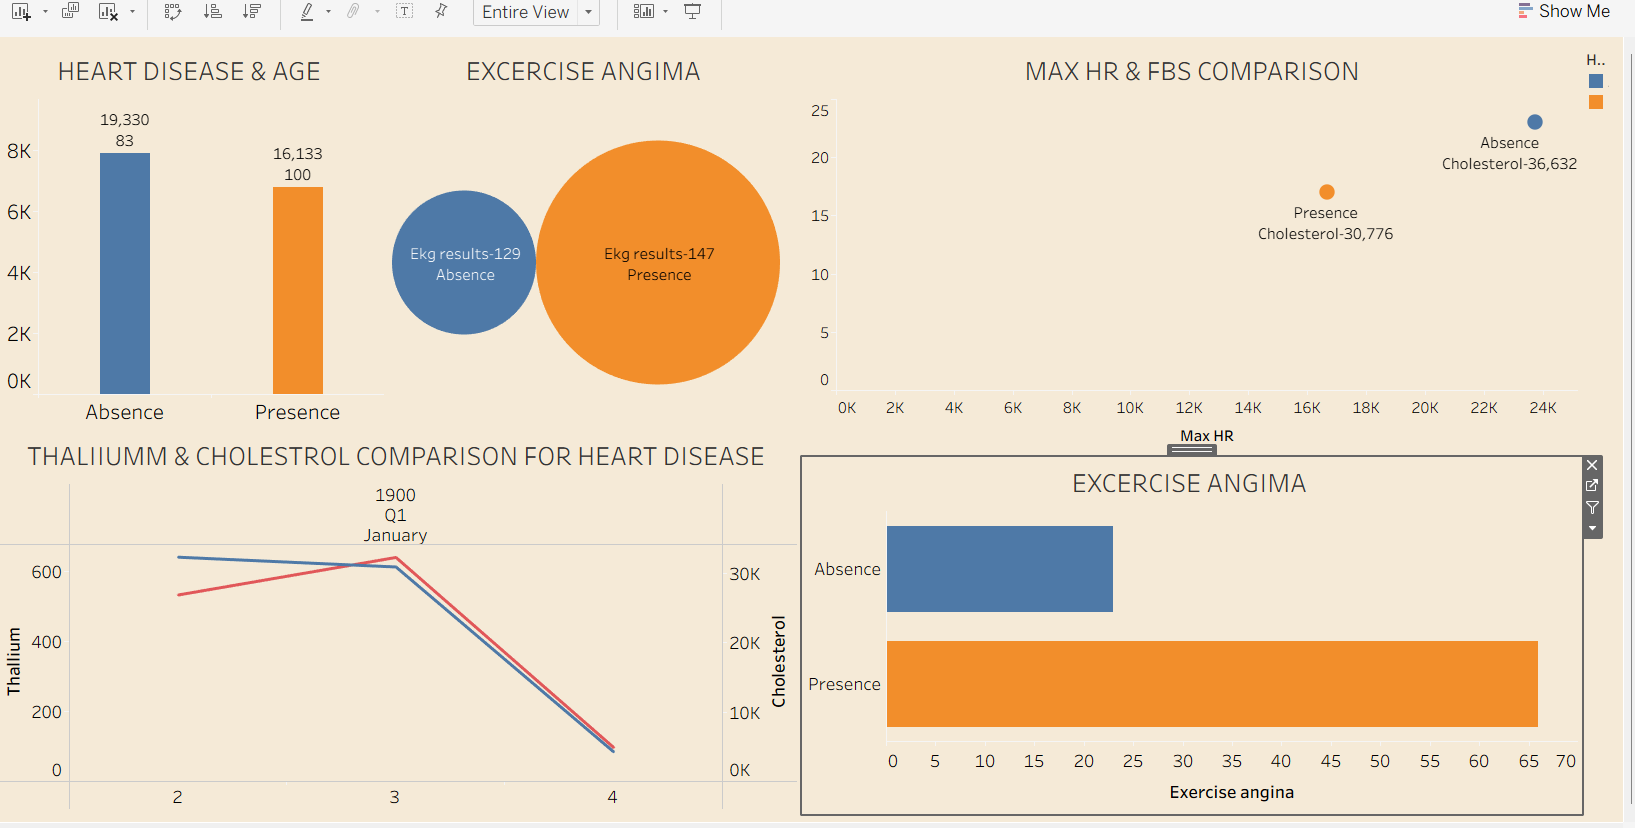

What the dashboard file says about the page in this screenshot:
{"tool":"tableau","page":{"name":"Dashboard 1","canvas":[1000,1000],"units":"permille","ordinal":0},"visuals":[{"type":"worksheet","title":"Sheet 1","mark":"Automatic","rows":["Age"],"cols":["Heart Disease"],"box":[4.9,10.2,242.5,490.4]},{"type":"worksheet","title":"Sheet 1 (5)","mark":"Circle","box":[247.4,10.2,252.3,490.4]},{"type":"worksheet","title":"Sheet 1 (2)","mark":"Automatic","rows":["FBS over 120"],"cols":["Max HR"],"box":[499.7,10.2,475.3,524.8]},{"type":"legend","title":"Sheet 1","param":"[federated.0nmnnx60sapc6q18s6ebv1ehabce].[none:Heart Disease:nk]","box":[975,10.2,20.1,91.7]},{"type":"worksheet","title":"Sheet 1 (3)","mark":"Automatic","rows":["Thallium","Cholesterol"],"cols":["Slope of ST","Slope of ST","Slope of ST","Slope of ST"],"box":[4.9,500.6,494.8,489.2]},{"type":"worksheet","title":"Sheet 1 (4)","mark":"Automatic","rows":["Heart Disease"],"cols":["Exercise angina"],"box":[499.7,535,475.3,454.8]}]}

Visuals, with their boxes on the dashboard's canvas, which has no fixed pixel size, in thousandths of its width and height (x1, y1, x2, y2). These are canvas units, not pixel positions in the 1635x828 screenshot, which may show the page scaled, cropped or inside an application window:
"Sheet 1" worksheet: (x1=5, y1=10, x2=247, y2=501)
"Sheet 1 (5)" worksheet (Circle marks): (x1=247, y1=10, x2=500, y2=501)
"Sheet 1 (2)" worksheet: (x1=500, y1=10, x2=975, y2=535)
"Sheet 1" legend: (x1=975, y1=10, x2=995, y2=102)
"Sheet 1 (3)" worksheet: (x1=5, y1=501, x2=500, y2=990)
"Sheet 1 (4)" worksheet: (x1=500, y1=535, x2=975, y2=990)
